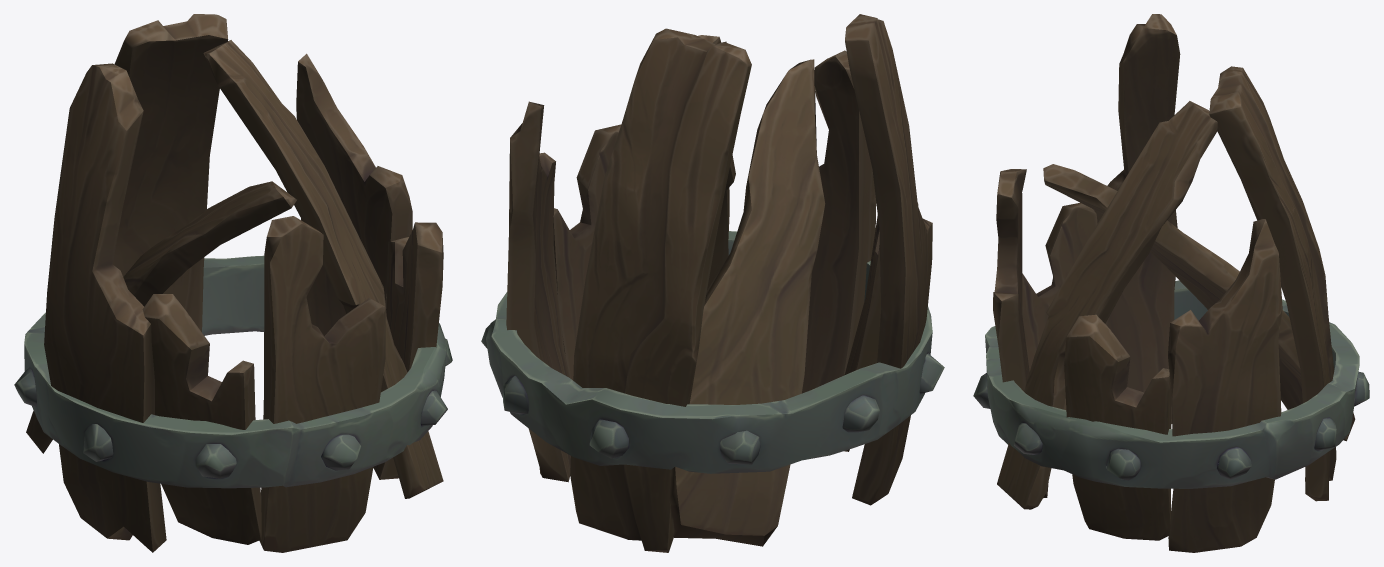
File: SM_FW01_Barrel_C_02.fbx
3 renders of one model, left to right at view 1: azimuth 30°, elevation 25°; view 2: azimuth 150°, elevation 25°; view 3: azimuth 270°, elevation 25°, orthographic. The views are drawn at different scales.
Parts seen in each view (by area): view 1: SM_FW01_Barrel_C_02_LOD0; view 2: SM_FW01_Barrel_C_02_LOD0; view 3: SM_FW01_Barrel_C_02_LOD0.
Part boxes in pixels (bbox=[...]): SM_FW01_Barrel_C_02_LOD0: bbox=[14, 14, 452, 552]; SM_FW01_Barrel_C_02_LOD0: bbox=[481, 14, 944, 552]; SM_FW01_Barrel_C_02_LOD0: bbox=[973, 14, 1369, 552].
Size of what is drawn, in the model's own units: 0.9597 by 1.15 by 0.9937.
